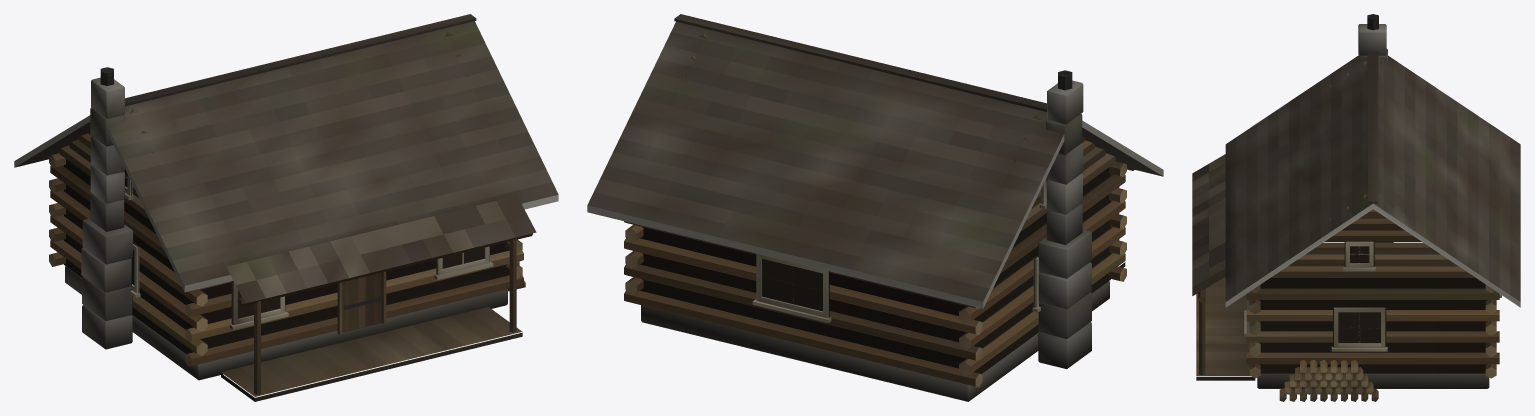
File: wood_cabin.glb
3 renders of one model, left to right at view 1: azimuth 30°, elevation 25°; view 2: azimuth 150°, elevation 25°; view 3: azimuth 270°, elevation 25°, orthographic. The views are drawn at different scales.
Parts seen in each view (by area): view 1: WoodCabin; view 2: WoodCabin; view 3: WoodCabin.
Part boxes in pixels (left/top/right/bottom): WoodCabin: left=14, top=14, right=558, bottom=401; WoodCabin: left=587, top=14, right=1163, bottom=401; WoodCabin: left=1192, top=14, right=1520, bottom=401.
Size of the model in its own units: 9.67 by 6.5 by 8.35.
